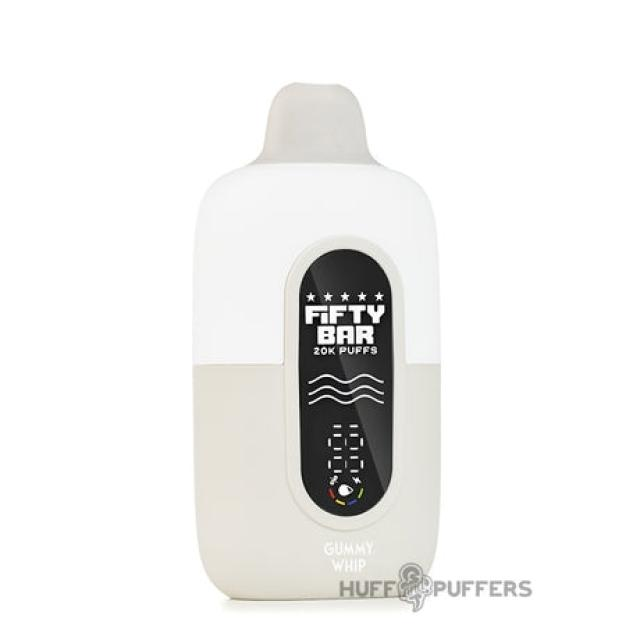Hazard: (190, 81, 442, 604)
